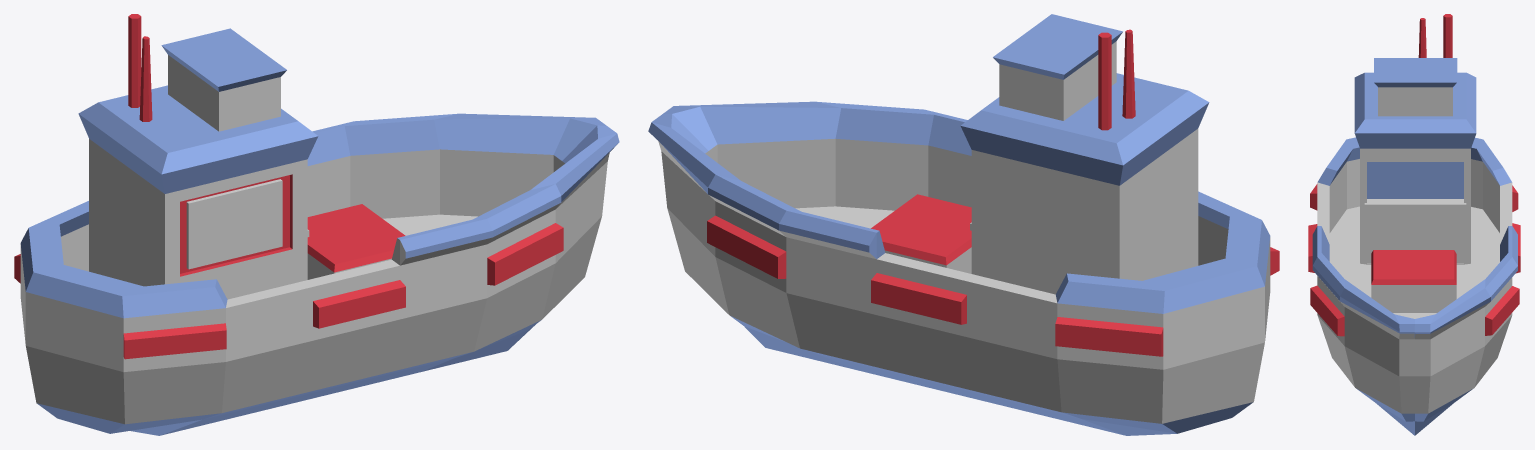
Rendered from fishingship.fbx.
3 views of the same model, side by side, from view 1: azimuth 30°, elevation 25°; view 2: azimuth 150°, elevation 25°; view 3: azimuth 270°, elevation 25° (orthographic). The views are drawn at different scales.
Visible parts, largest first — view 1: Cube; view 2: Cube; view 3: Cube.
Boxes of the visible parts, left/top/right/bottom form: Cube: left=14, top=14, right=619, bottom=435; Cube: left=648, top=14, right=1279, bottom=435; Cube: left=1308, top=14, right=1520, bottom=435.
Bounding box in the file's own units: 430 × 284 × 185.
